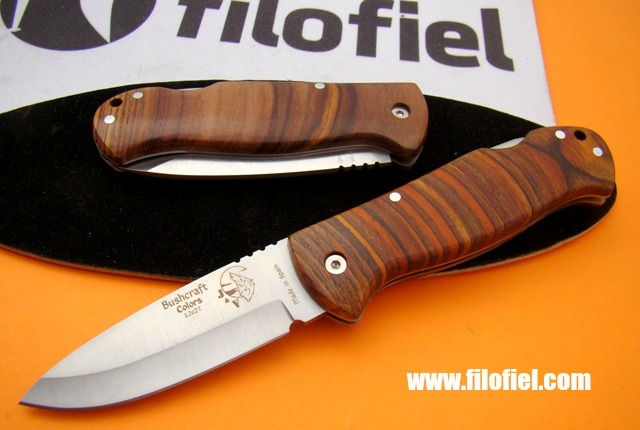knife: (9, 232, 341, 422)
